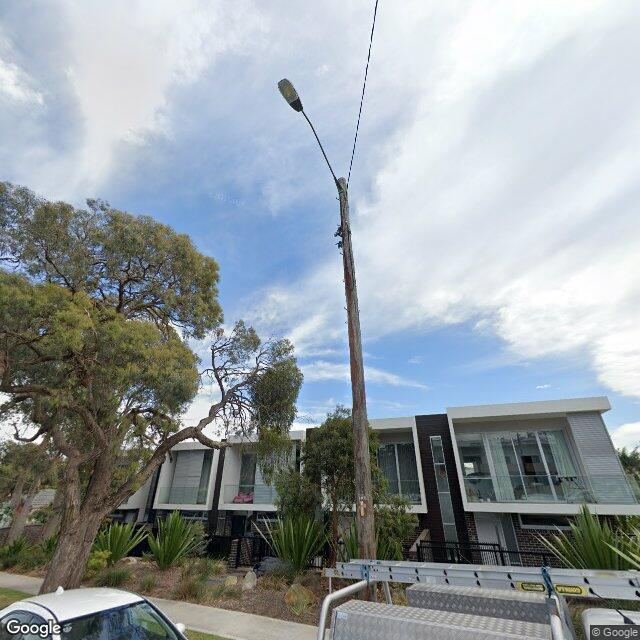streetlight: (276, 78, 346, 197)
timber-pole: (336, 176, 376, 602)
